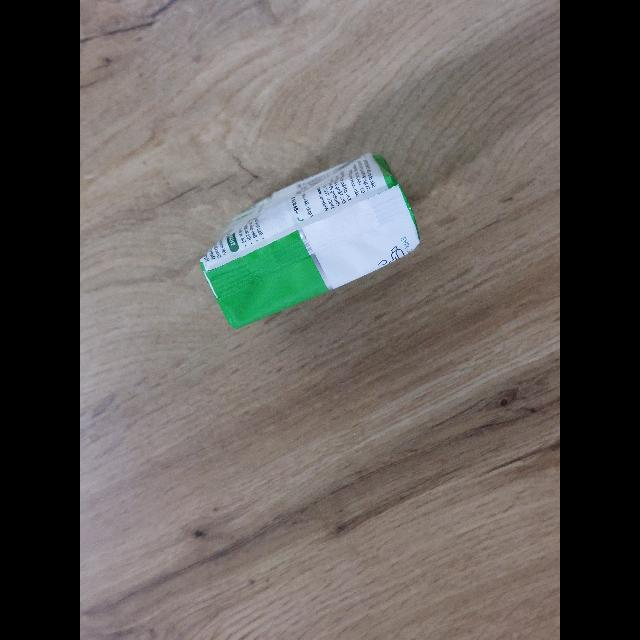khan_giay: (200, 154, 420, 328)
